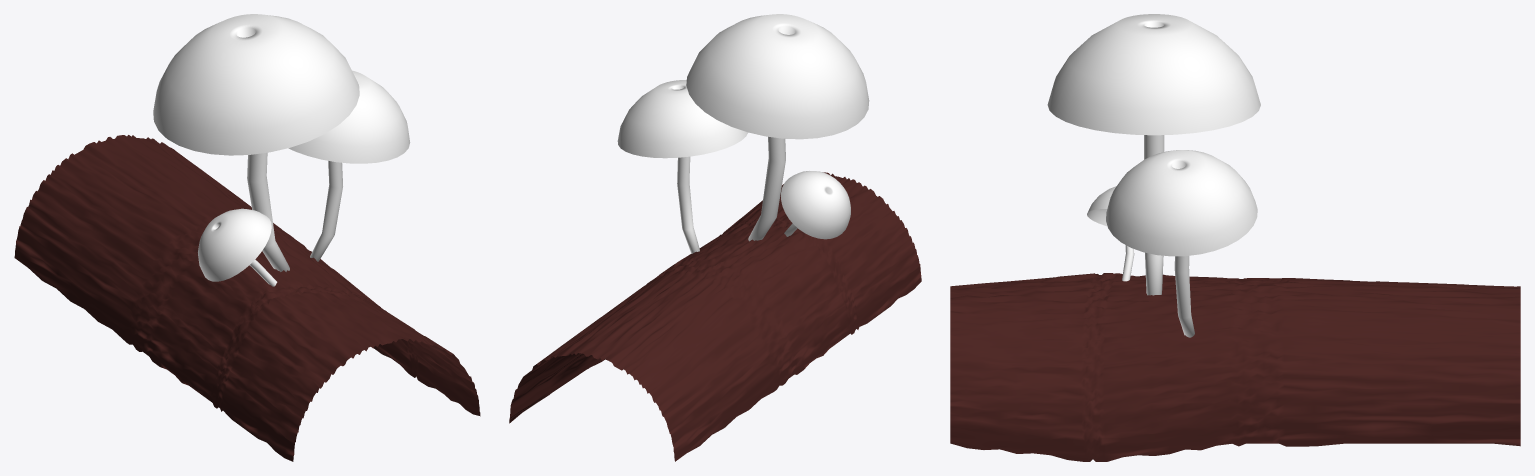
Rendered from mushroom.gltf.
3 renders of one model, left to right at view 1: azimuth 30°, elevation 25°; view 2: azimuth 150°, elevation 25°; view 3: azimuth 270°, elevation 25°, orthographic. The views are drawn at different scales.
Visible parts, largest first — view 1: Cylinder, Circle, Circle.001, Circle.002; view 2: Cylinder, Circle, Circle.001, Circle.002; view 3: Cylinder, Circle, Circle.001, Circle.002.
Part boxes in pixels (left/top/right/bottom): Cylinder: left=14, top=135, right=480, bottom=461; Circle: left=153, top=14, right=359, bottom=271; Circle.001: left=288, top=70, right=410, bottom=261; Circle.002: left=198, top=208, right=277, bottom=286; Cylinder: left=509, top=172, right=921, bottom=461; Circle: left=686, top=14, right=869, bottom=241; Circle.001: left=617, top=80, right=748, bottom=253; Circle.002: left=781, top=171, right=850, bottom=239; Cylinder: left=950, top=273, right=1520, bottom=461; Circle: left=1047, top=14, right=1260, bottom=295; Circle.001: left=1106, top=150, right=1257, bottom=337; Circle.002: left=1087, top=186, right=1134, bottom=281.
Size of the model in its own units: 2.63 by 3.71 by 5.16.
